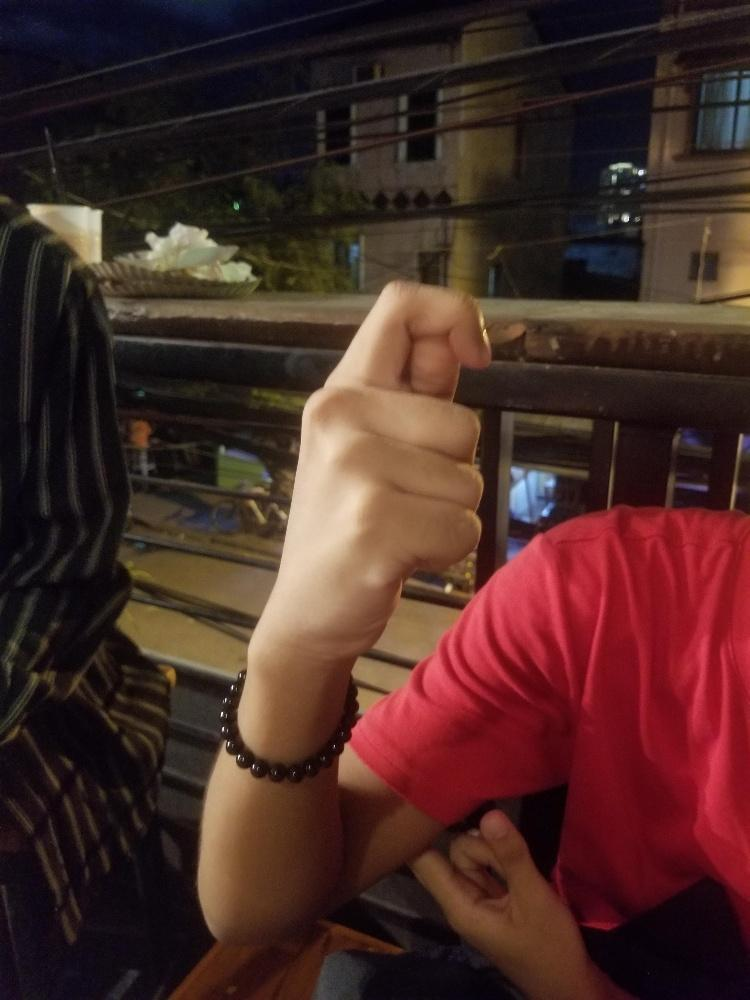t: (296, 282, 493, 644)
